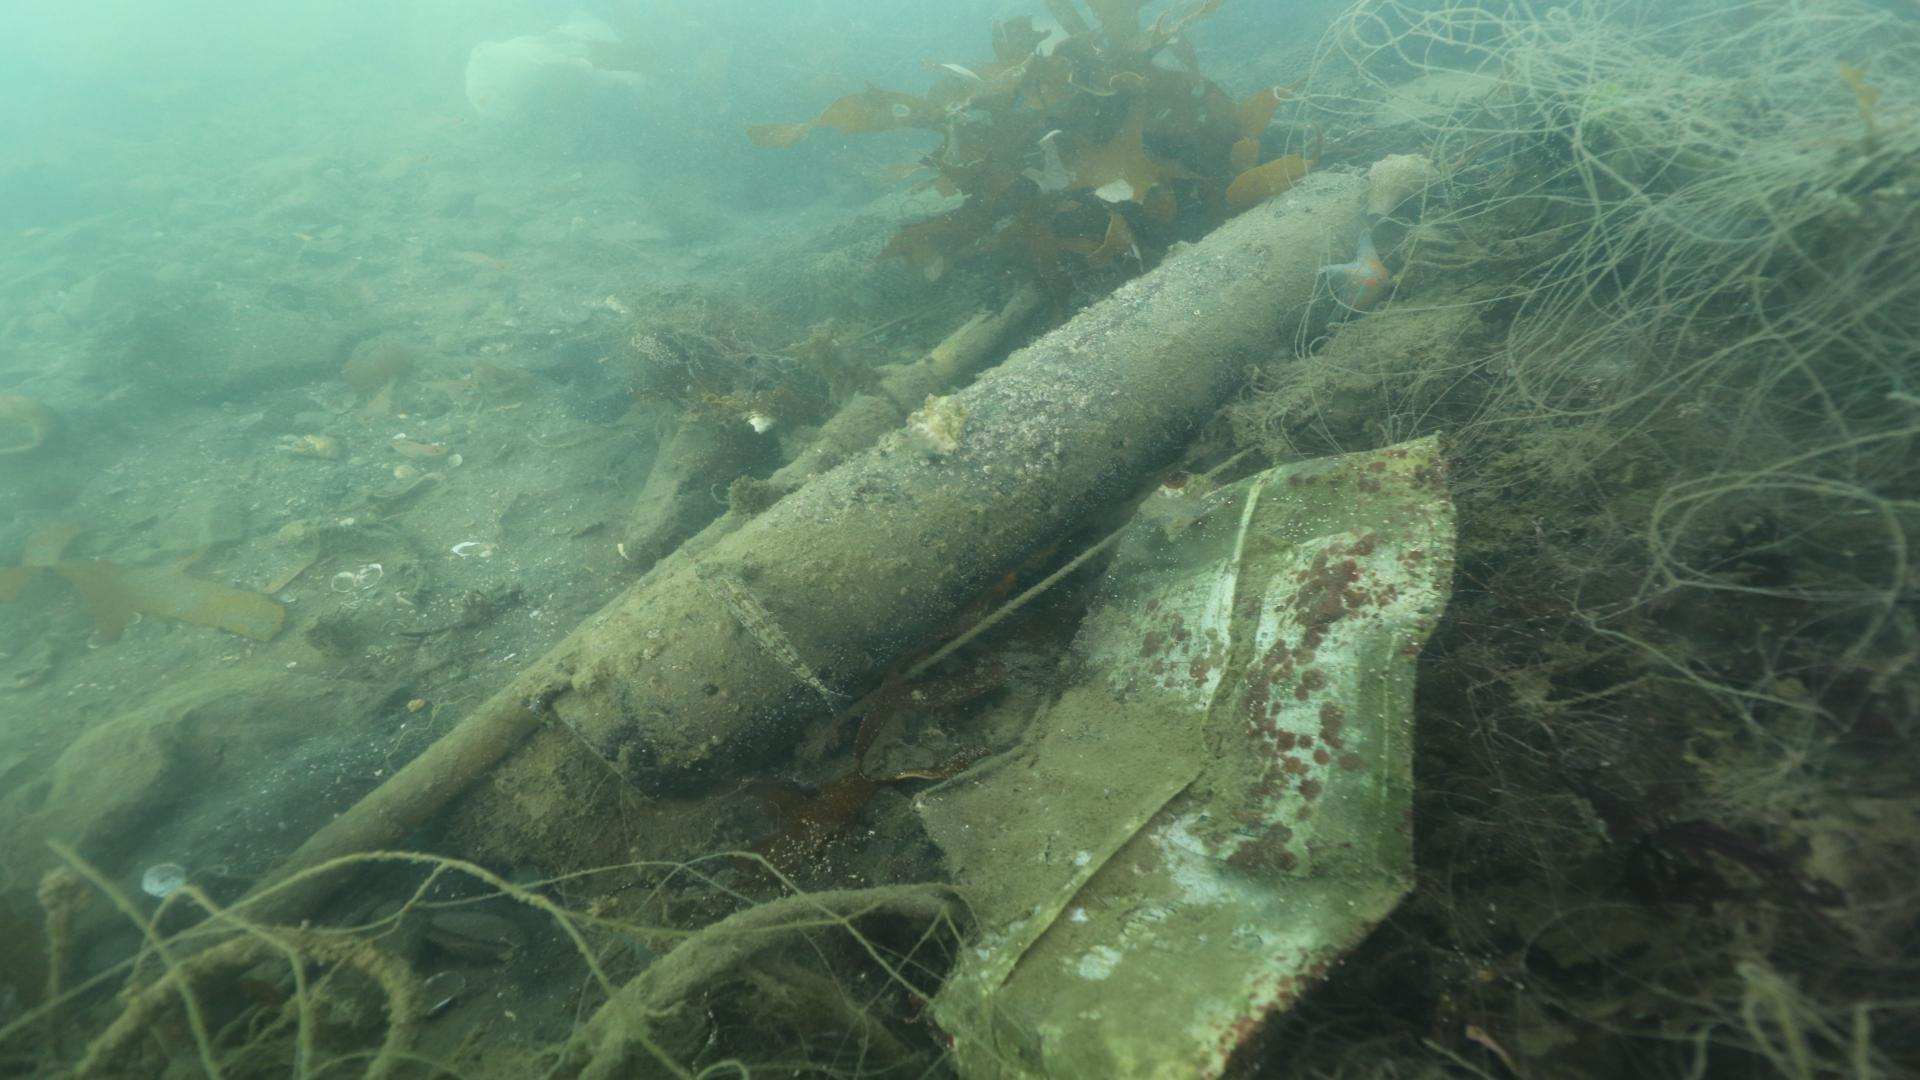eel fish trap: (549, 177, 1371, 789)
